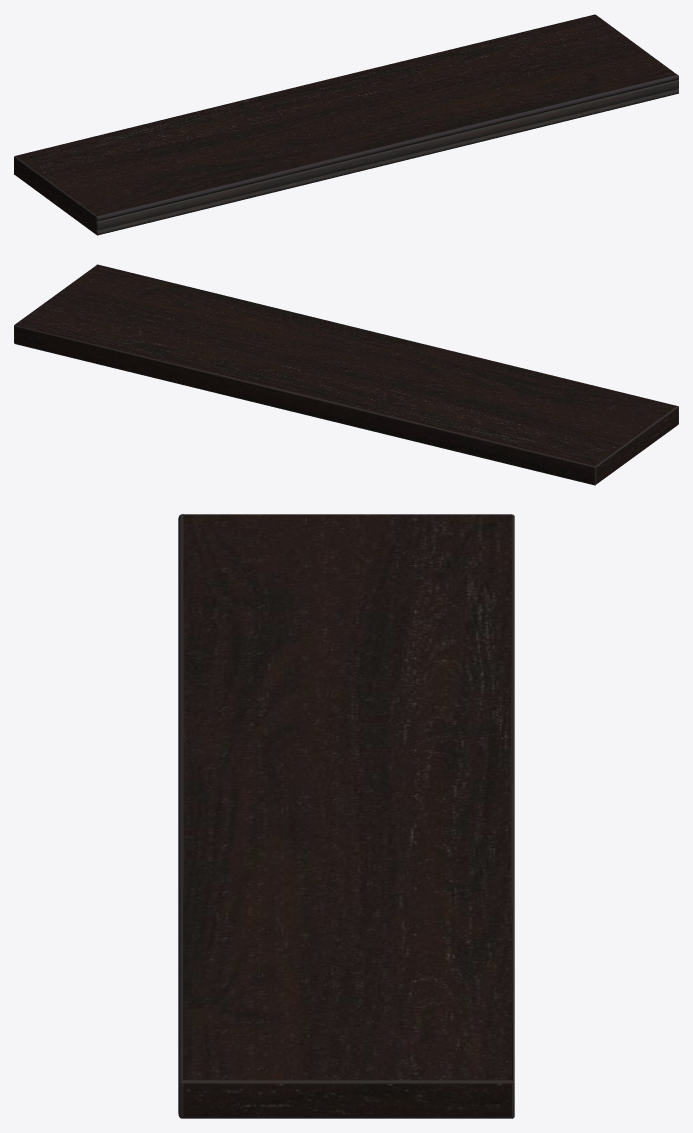
3 views of the same model, one above another, from view 1: azimuth 30°, elevation 25°; view 2: azimuth 150°, elevation 25°; view 3: azimuth 270°, elevation 25° (orthographic). The views are drawn at different scales.
Parts seen in each view (by area): view 1: model; view 2: model; view 3: model.
Part boxes in pixels (bbox=[...]): model: bbox=[14, 14, 678, 235]; model: bbox=[14, 264, 678, 485]; model: bbox=[178, 514, 514, 1118].
Size of the model in its own units: 0.8 by 0.0258 by 0.2.
Materials: 1 (1 with a texture image).
